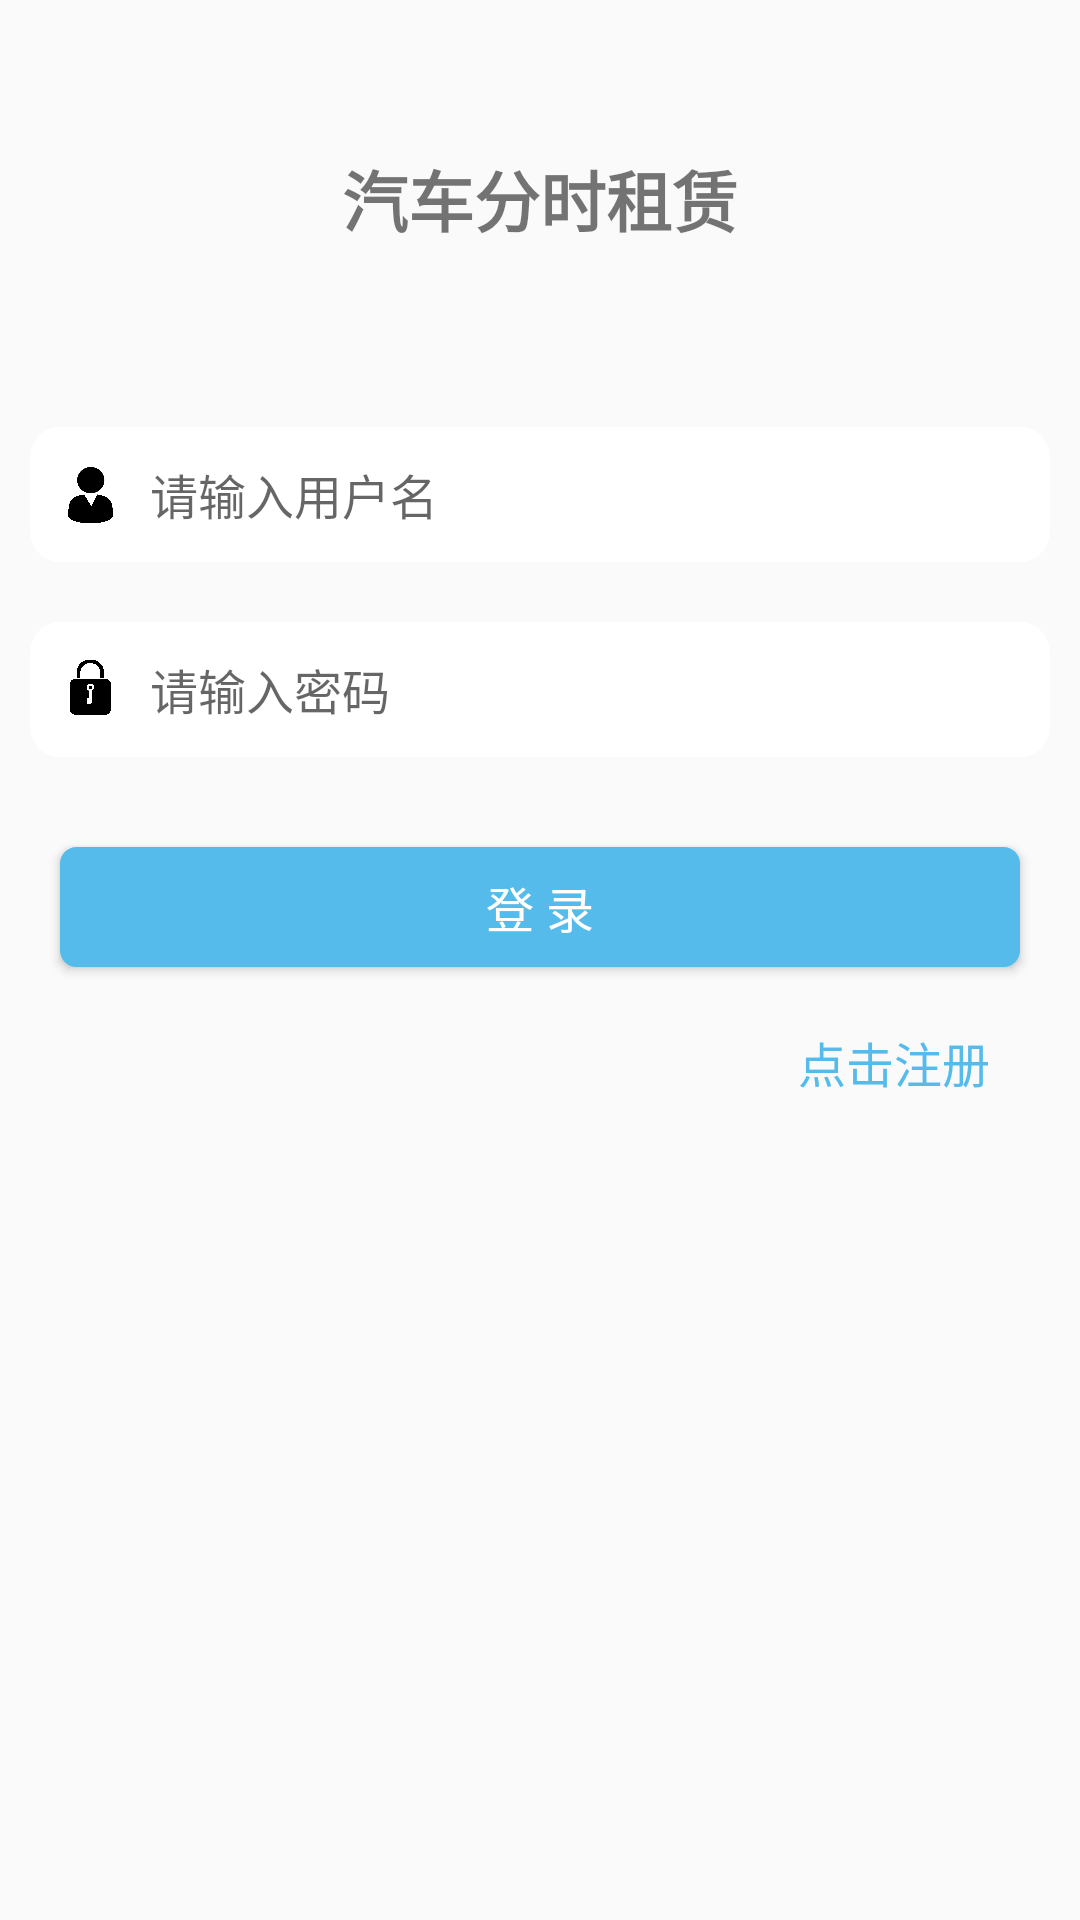

Icons on this 1080 x 1920 Android screen, each with its box as rect(x1, y1, x2, y2):
password: rect(70, 660, 111, 715)
user: rect(68, 467, 113, 523)
